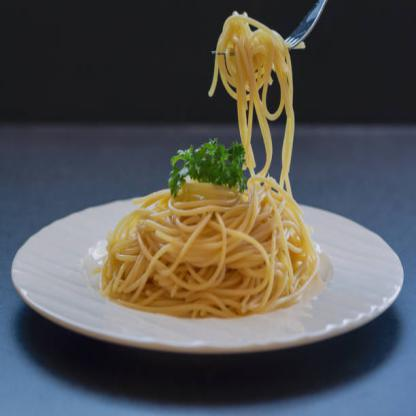Noodles: (95, 151, 322, 321)
